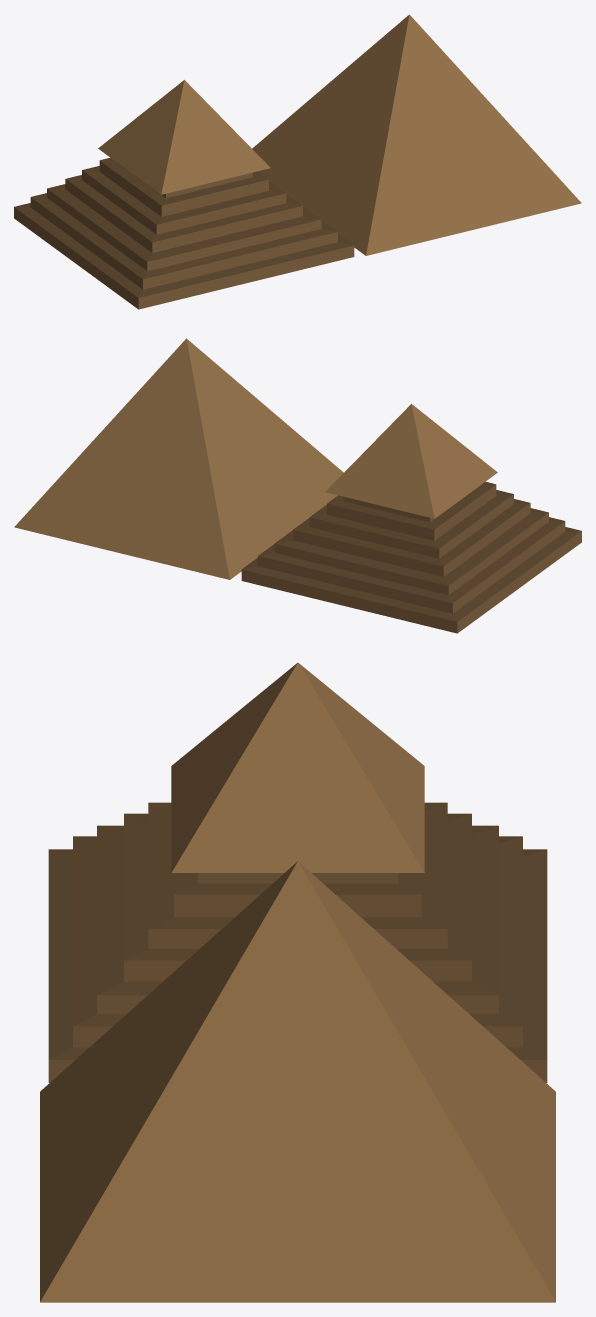
Rendered from V_Egito04_Pirâmide.fbx.
The picture shows the model from 3 angles, top to bottom: view 1: azimuth 30°, elevation 25°; view 2: azimuth 150°, elevation 25°; view 3: azimuth 270°, elevation 25°; orthographic projection. The views are drawn at different scales.
Parts seen in each view (by area): view 1: Cube.001, Cube; view 2: Cube.001, Cube; view 3: Cube.001, Cube.
Part boxes in pixels (x1,y1,x2,y2): Cube.001: (252,14,581,255); Cube: (14,80,354,309); Cube.001: (14,338,343,579); Cube: (241,404,581,633); Cube.001: (40,861,555,1302); Cube: (48,662,547,1082).
Size of the model in its own units: 4088 by 1491 by 2072.
